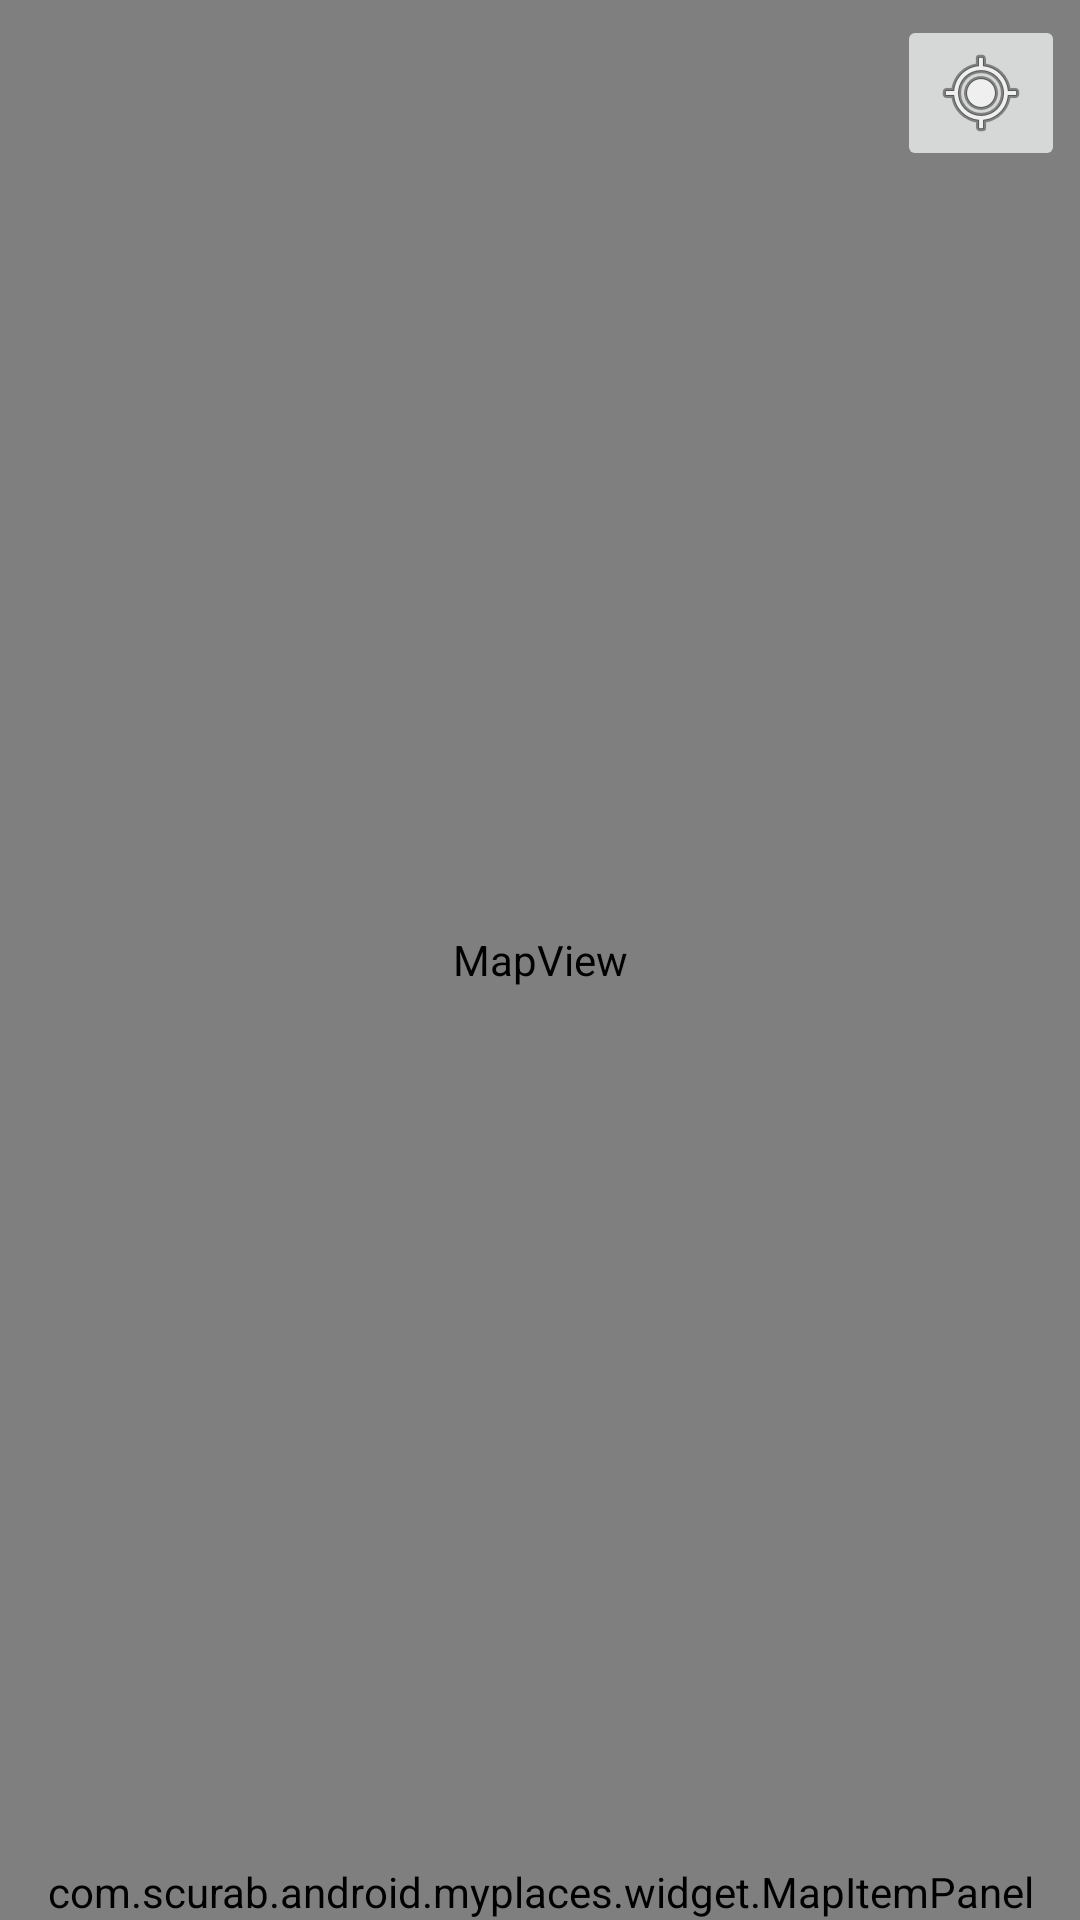

Locate icon controls on the screen. Image size 1080px x 1920px, boxes as bbox=[x1, y1, x2, y2].
mylocation: bbox=[909, 33, 1053, 153]
